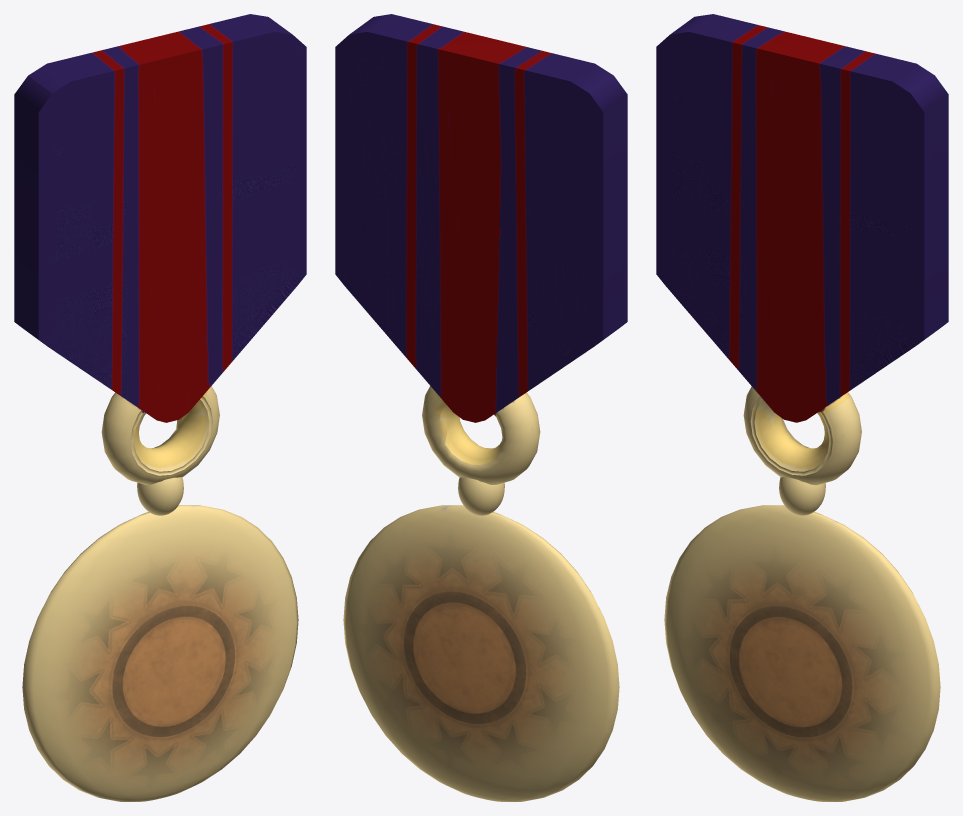
File: medal.glb
The picture shows the model from 3 angles, left to right: view 1: azimuth 30°, elevation 25°; view 2: azimuth 150°, elevation 25°; view 3: azimuth 330°, elevation 25°; orthographic projection.
Visible parts, largest first — view 1: pCube2; view 2: pCube2; view 3: pCube2.
Part boxes in pixels (bbox=[...]): pCube2: bbox=[14, 14, 306, 801]; pCube2: bbox=[335, 14, 627, 801]; pCube2: bbox=[656, 14, 948, 801].
Bounding box in the file's own units: 0.0124 × 0.0321 × 0.00218.
Materials: 1 (1 with a texture image).
